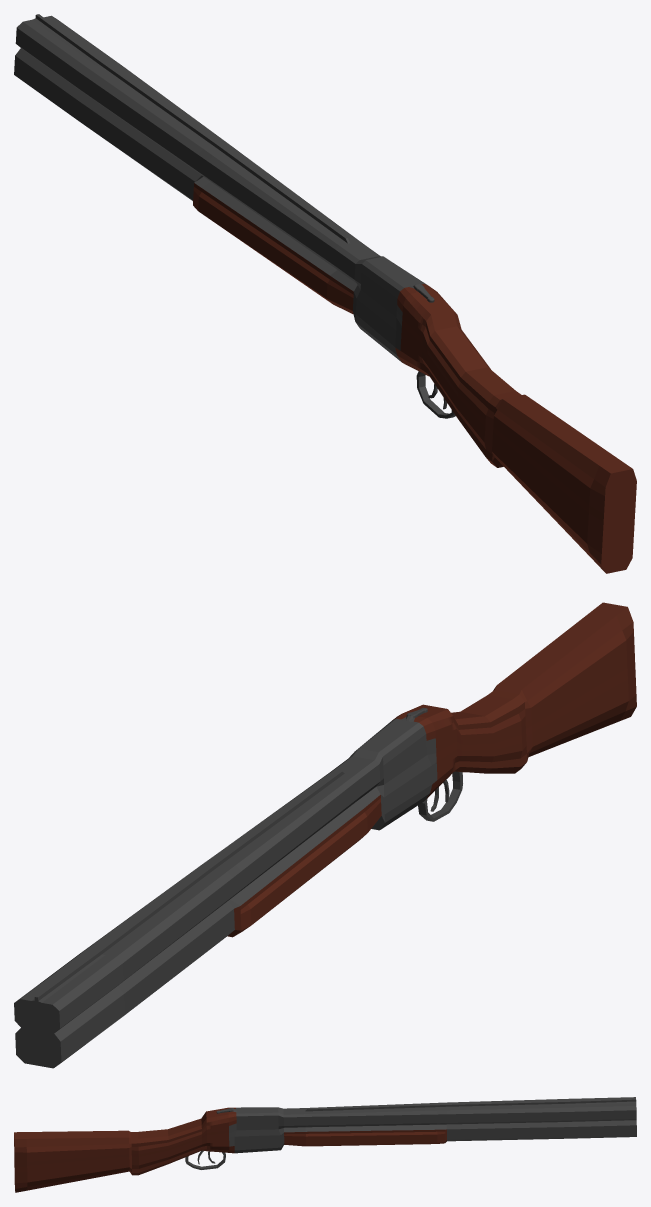
File: bk_kozlice.glb
3 views of the same model, one above another, from view 1: azimuth 30°, elevation 25°; view 2: azimuth 150°, elevation 25°; view 3: azimuth 270°, elevation 25° (orthographic). The views are drawn at different scales.
Visible parts, largest first — view 1: Cube_0; view 2: Cube_0; view 3: Cube_0.
Boxes of the visible parts, x1,y1,x2,y2 form: Cube_0: (14,14,636,573); Cube_0: (14,602,636,1068); Cube_0: (14,1097,636,1192).
Bounding box in the file's own units: 0.0808 × 0.1796 × 1.19.
